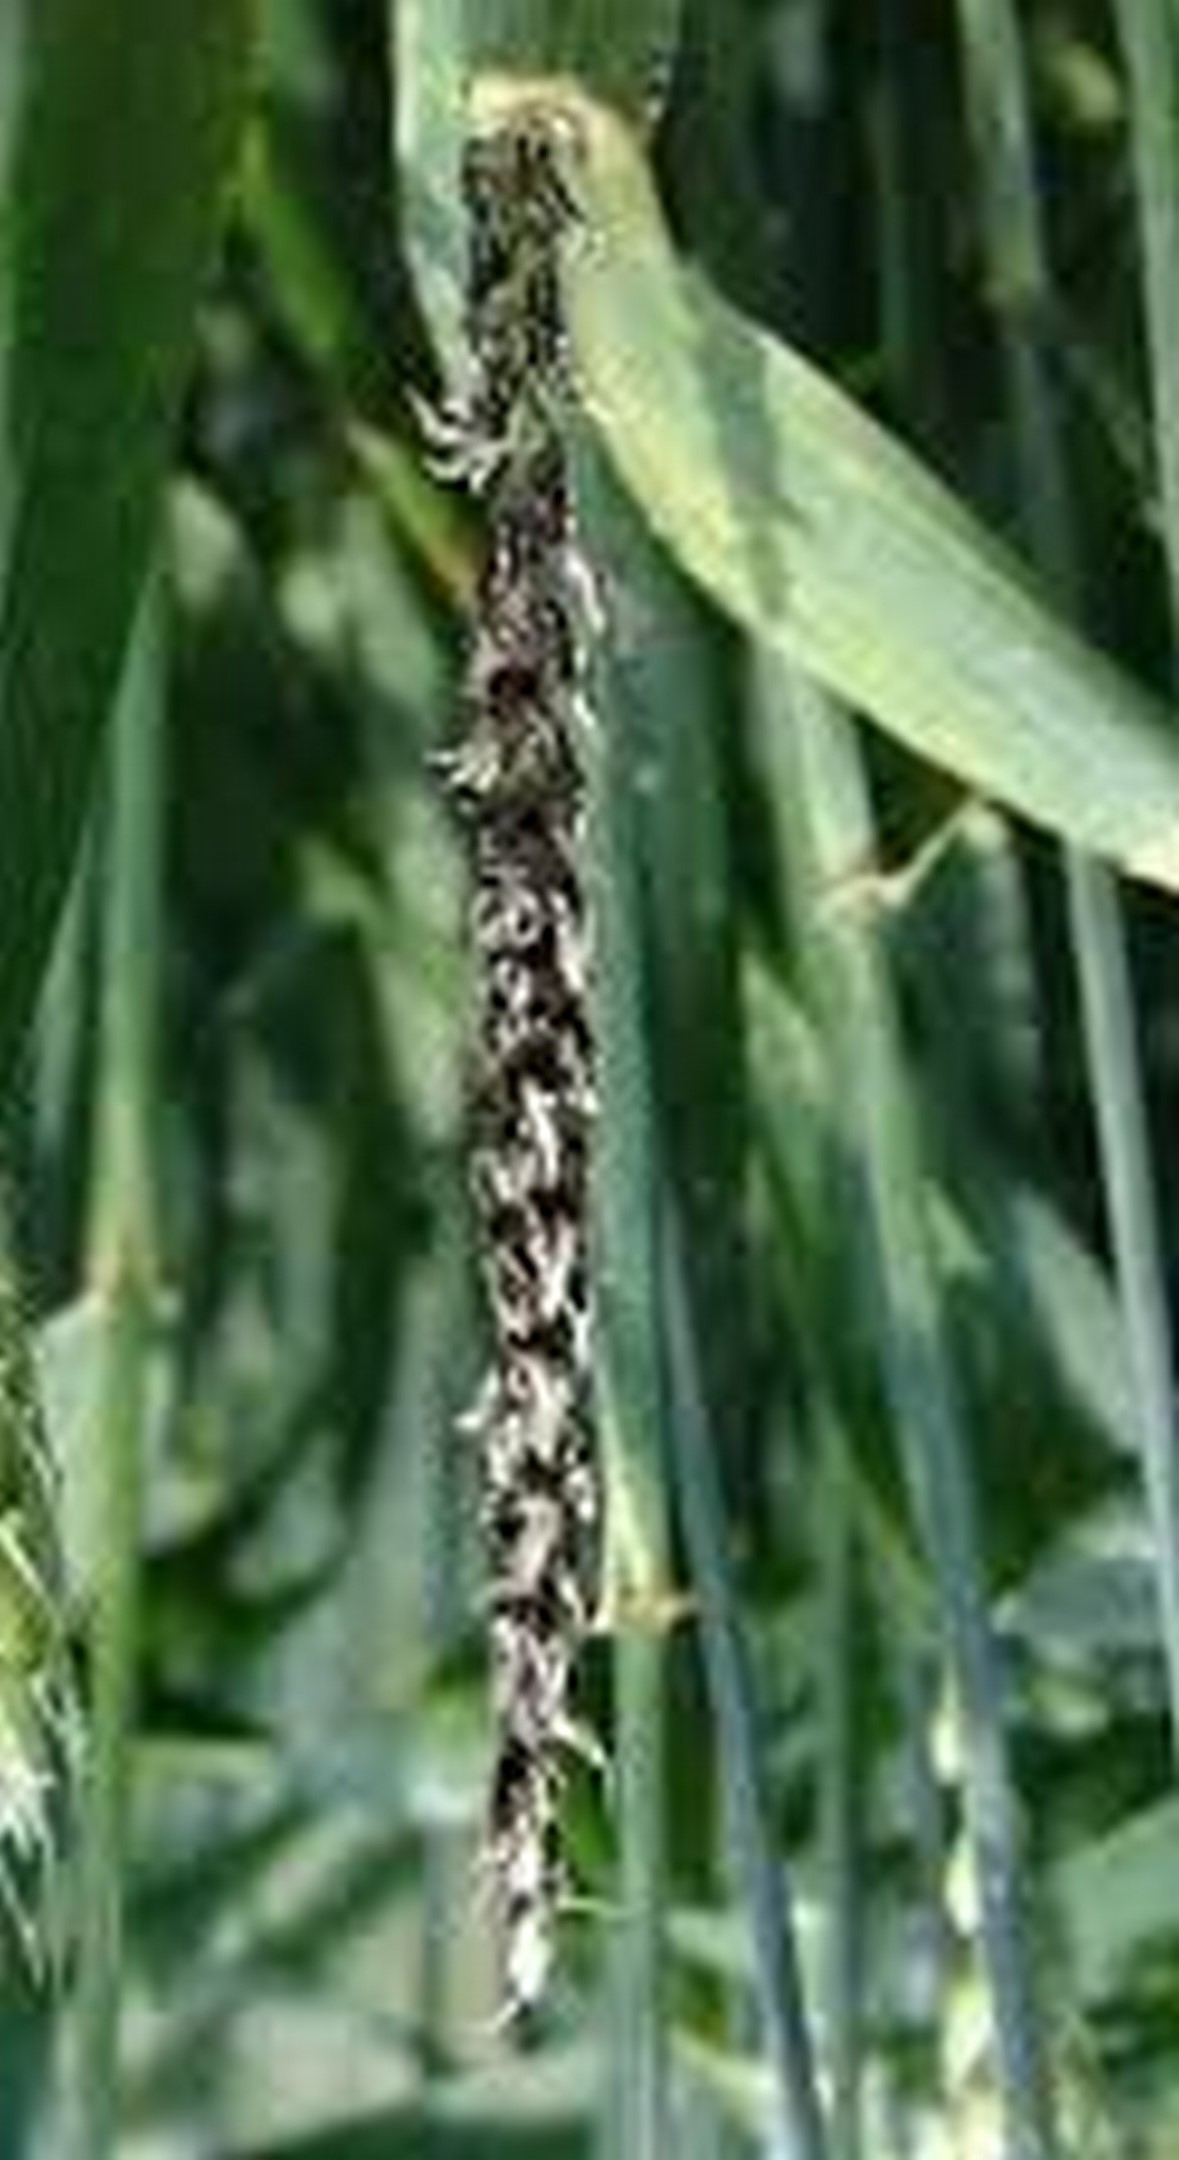Wheat Loose Smut: (369, 181, 688, 1825)
